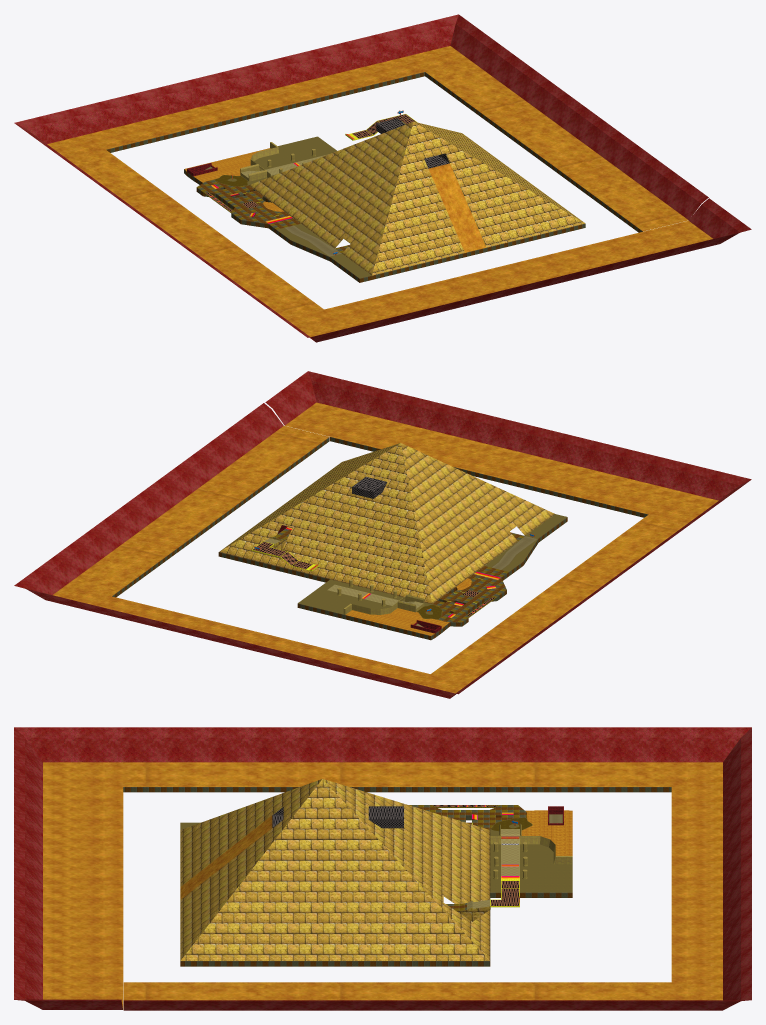
The picture shows the model from 3 angles, top to bottom: view 1: azimuth 30°, elevation 25°; view 2: azimuth 150°, elevation 25°; view 3: azimuth 270°, elevation 25°; orthographic projection. The views are drawn at different scales.
Visible parts, largest first — view 1: hell-pyramid-SKP--offroad_sand, hell-pyramid-SKP--background, hell-pyramid-SKP--pyramid_outside_wall, hell-pyramid-SKP--blocks, hell-pyramid-SKP--sand_offroad, hell-pyramid-SKP--wall, hell-pyramid-SKP--metalgrid; view 2: hell-pyramid-SKP--offroad_sand, hell-pyramid-SKP--pyramid_outside_wall, hell-pyramid-SKP--background, hell-pyramid-SKP--blocks, hell-pyramid-SKP--sand_offroad, hell-pyramid-SKP--wall, hell-pyramid-SKP--metalgrid, hell-pyramid-SKP--Dark_Metal_Grid; view 3: hell-pyramid-SKP--offroad_sand, hell-pyramid-SKP--background, hell-pyramid-SKP--pyramid_outside_wall, hell-pyramid-SKP--blocks, hell-pyramid-SKP--sand_offroad, hell-pyramid-SKP--wall, hell-pyramid-SKP--Dark_Metal_Grid, hell-pyramid-SKP--road, hell-pyramid-SKP--metalgrid.
Part boxes in pixels (x1,y1,x2,y2): hell-pyramid-SKP--offroad_sand: (47,46,712,336); hell-pyramid-SKP--background: (14,14,751,342); hell-pyramid-SKP--pyramid_outside_wall: (249,121,585,275); hell-pyramid-SKP--blocks: (106,72,642,282); hell-pyramid-SKP--sand_offroad: (214,136,371,278); hell-pyramid-SKP--wall: (240,142,315,181); hell-pyramid-SKP--metalgrid: (204,114,416,211); hell-pyramid-SKP--offroad_sand: (53,402,718,693); hell-pyramid-SKP--pyramid_outside_wall: (219,443,554,603); hell-pyramid-SKP--background: (14,371,751,698); hell-pyramid-SKP--blocks: (112,437,648,640); hell-pyramid-SKP--sand_offroad: (298,514,567,619); hell-pyramid-SKP--wall: (337,579,424,614); hell-pyramid-SKP--metalgrid: (252,541,495,616); hell-pyramid-SKP--Dark_Metal_Grid: (352,476,387,498); hell-pyramid-SKP--offroad_sand: (43,762,722,1009); hell-pyramid-SKP--background: (14,727,751,1010); hell-pyramid-SKP--pyramid_outside_wall: (180,779,490,960); hell-pyramid-SKP--blocks: (123,787,671,966); hell-pyramid-SKP--sand_offroad: (180,817,572,892); hell-pyramid-SKP--wall: (490,824,572,879); hell-pyramid-SKP--Dark_Metal_Grid: (272,806,403,828); hell-pyramid-SKP--road: (467,829,518,909); hell-pyramid-SKP--metalgrid: (432,805,519,905).
Size of the model in its own units: 167838 by 33752 by 191944.
Materials: 30 (29 with a texture image).
